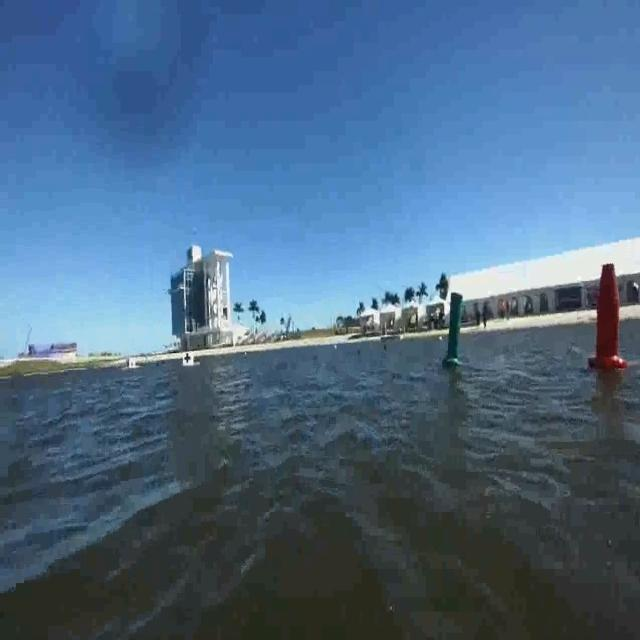green-column-buoy: (444, 290, 466, 368)
red-column-buoy: (588, 260, 626, 370)
